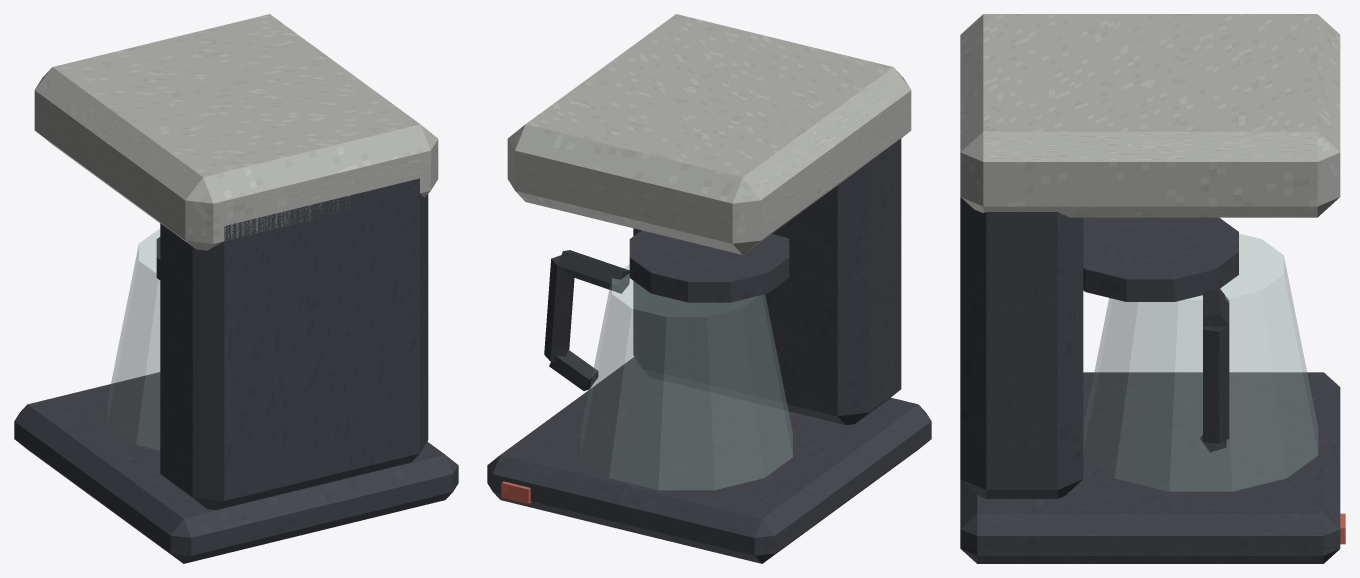
File: coffeemaker.glb
The picture shows the model from 3 angles, left to right: view 1: azimuth 30°, elevation 25°; view 2: azimuth 150°, elevation 25°; view 3: azimuth 270°, elevation 25°; orthographic projection. The views are drawn at different scales.
Parts seen in each view (by area): view 1: block_water reservoir, block_brew head, block_drip tray, block_glass carafe; view 2: block_brew head, block_drip tray, block_water reservoir, block_glass carafe, block_carafe lid, block_carafe handle 1, block_carafe handle 0, block_carafe handle 2; view 3: block_brew head, block_drip tray, block_glass carafe, block_water reservoir, block_carafe lid, block_carafe handle 1, block_carafe handle 0.
Part boxes in pixels (x1,y1,x2,y2): block_water reservoir: (160, 178, 428, 509); block_brew head: (34, 14, 438, 250); block_drip tray: (14, 372, 458, 563); block_glass carafe: (107, 229, 160, 450); block_brew head: (507, 14, 911, 254); block_drip tray: (487, 357, 931, 563); block_water reservoir: (633, 138, 901, 425); block_glass carafe: (580, 264, 792, 490); block_carafe lid: (629, 230, 789, 302); block_carafe handle 1: (544, 255, 574, 361); block_carafe handle 0: (557, 250, 629, 293); block_carafe handle 2: (549, 349, 598, 390); block_brew head: (960, 14, 1340, 217); block_drip tray: (960, 372, 1340, 563); block_glass carafe: (1083, 233, 1318, 491); block_water reservoir: (960, 197, 1083, 498); block_carafe lid: (1083, 217, 1238, 301); block_carafe handle 1: (1203, 326, 1229, 443); block_carafe handle 0: (1203, 287, 1229, 326).
Size of the model in its own units: 0.1988 by 0.25 by 0.2075.
2 materials, 2 textured.
